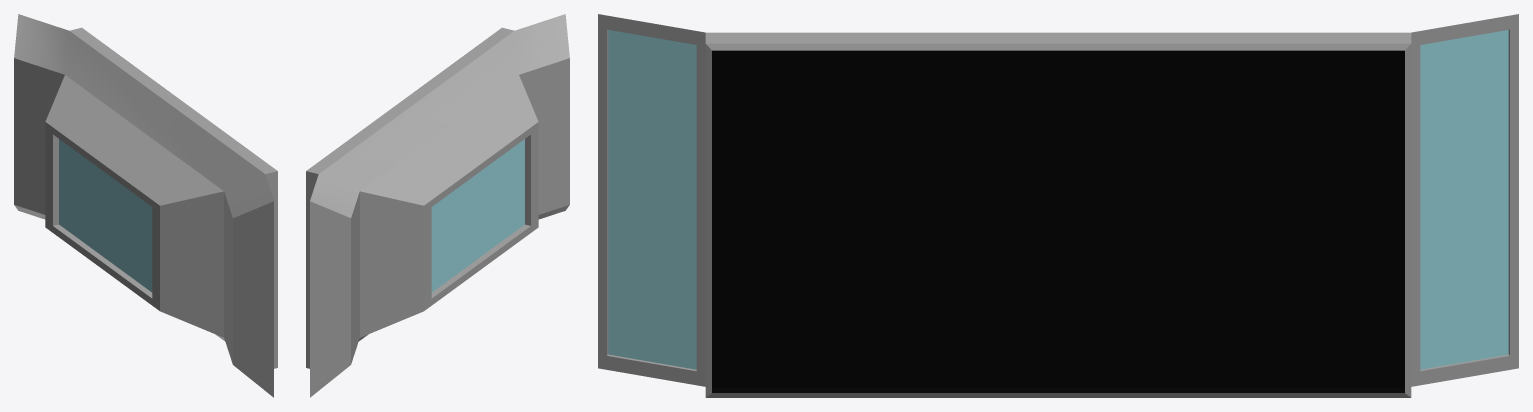
File: Screen Big.fbx
The picture shows the model from 3 angles, left to right: view 1: azimuth 30°, elevation 25°; view 2: azimuth 150°, elevation 25°; view 3: azimuth 270°, elevation 25°; orthographic projection. The views are drawn at different scales.
Visible parts, largest first — view 1: screen_big; view 2: screen_big; view 3: screen_big.
Part boxes in pixels (x1,y1,x2,y2): screen_big: (14,14,277,397); screen_big: (306,14,569,397); screen_big: (598,14,1518,397).
Bounding box in the file's own units: 5.63 × 13.5 × 31.8.
